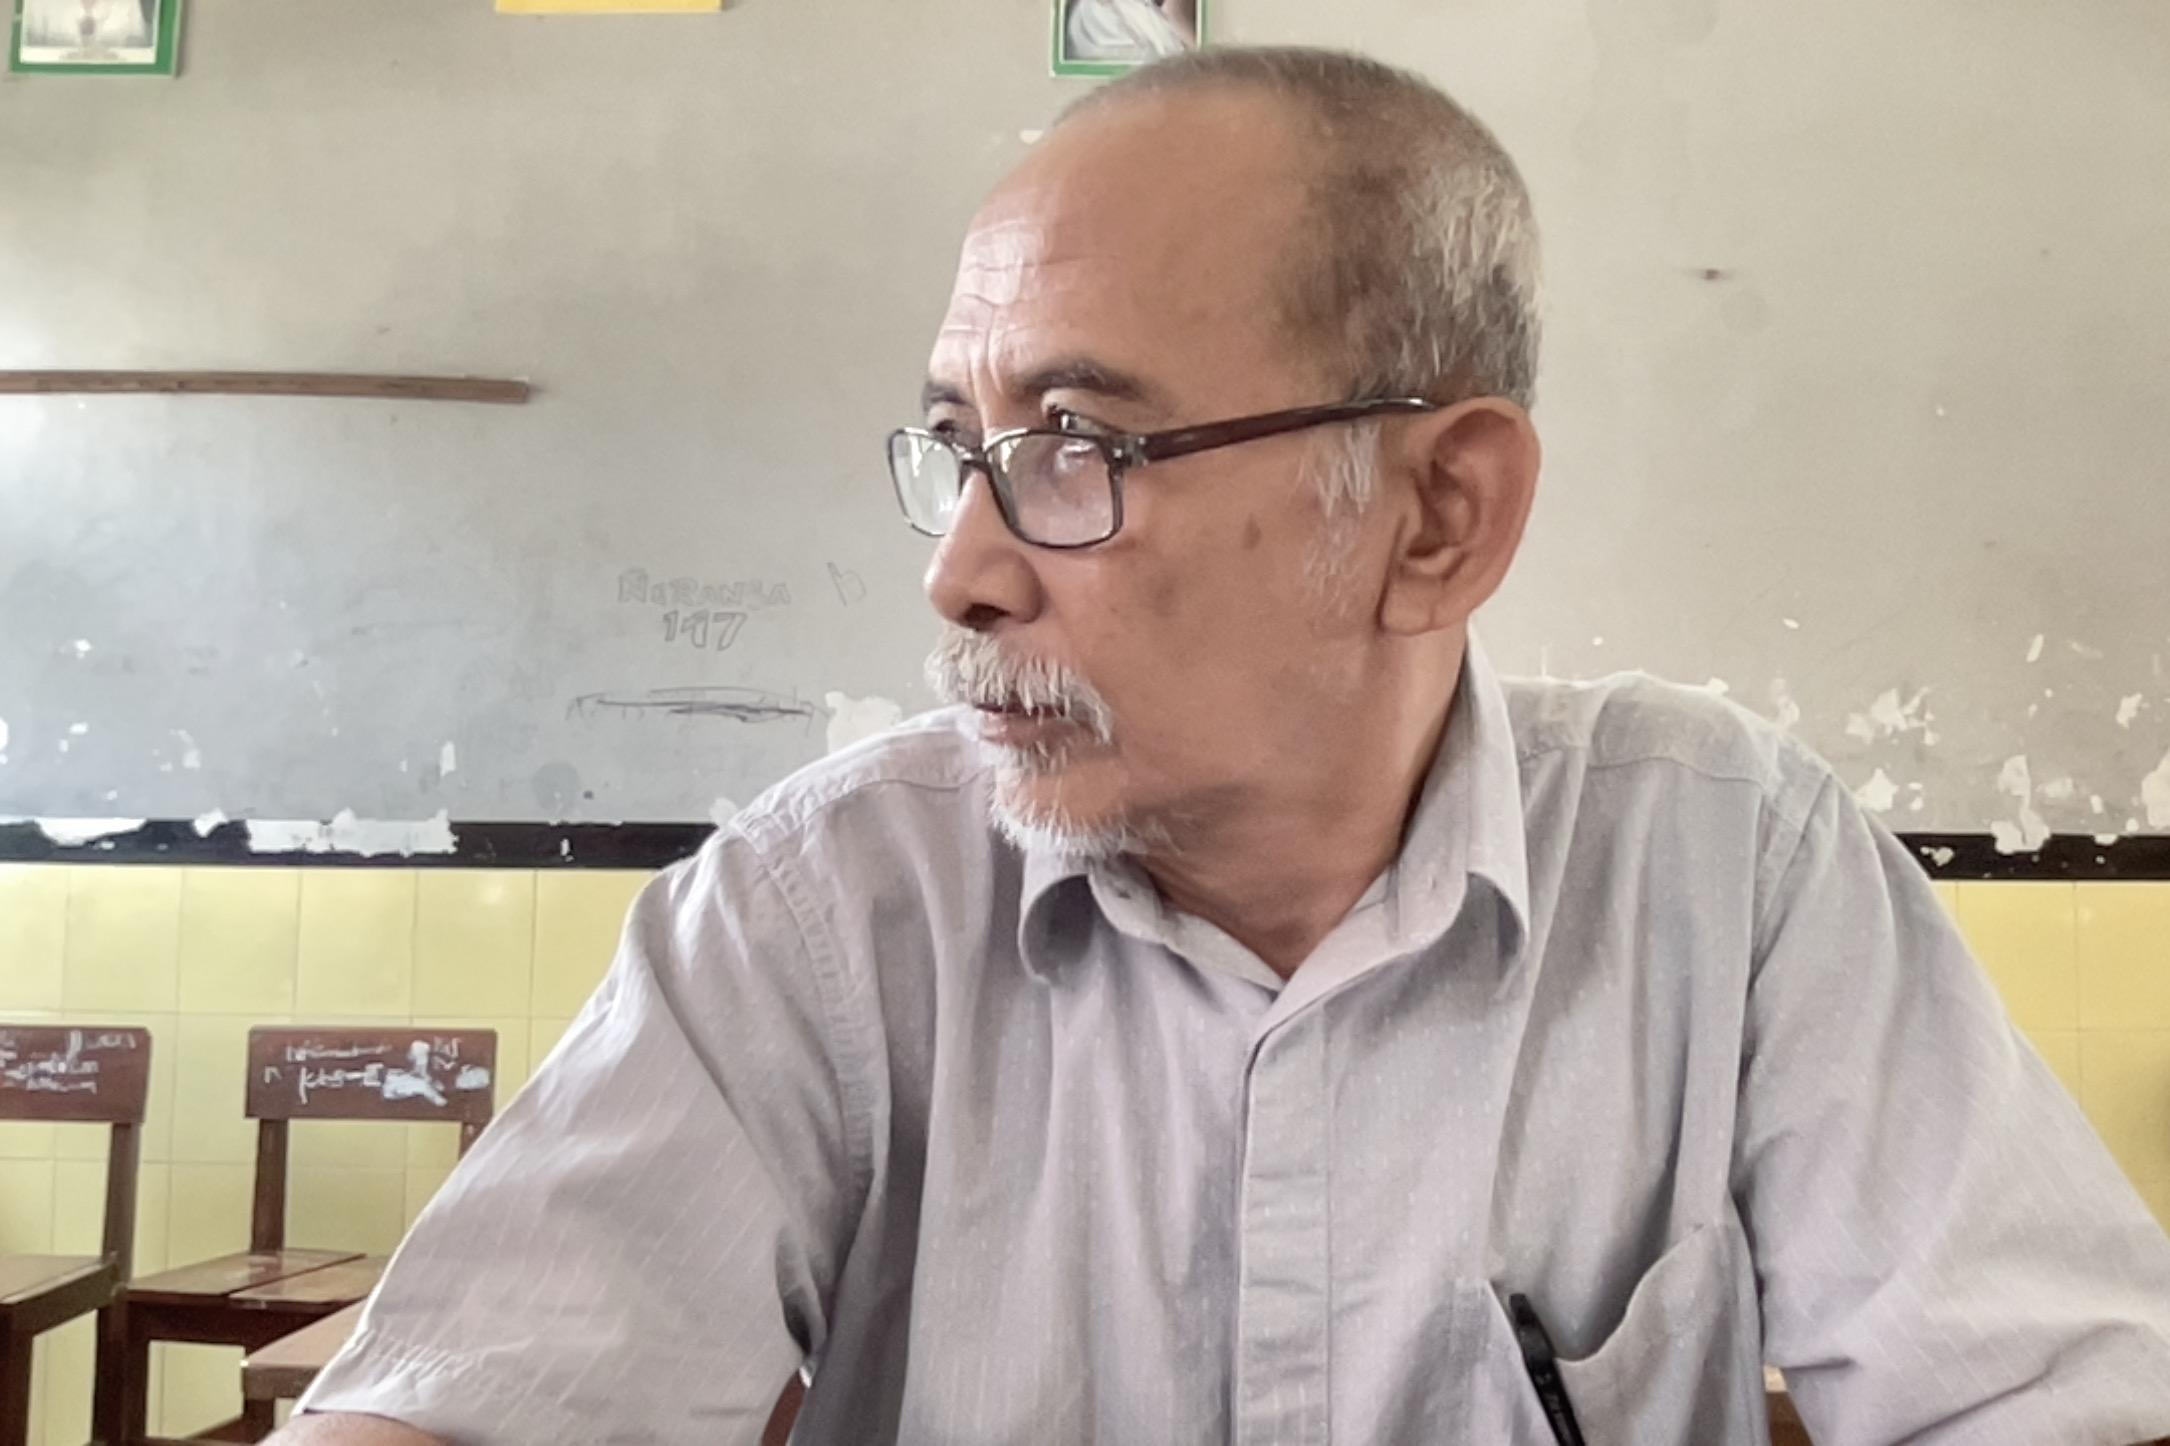cheating: (190, 27, 2170, 1446)
